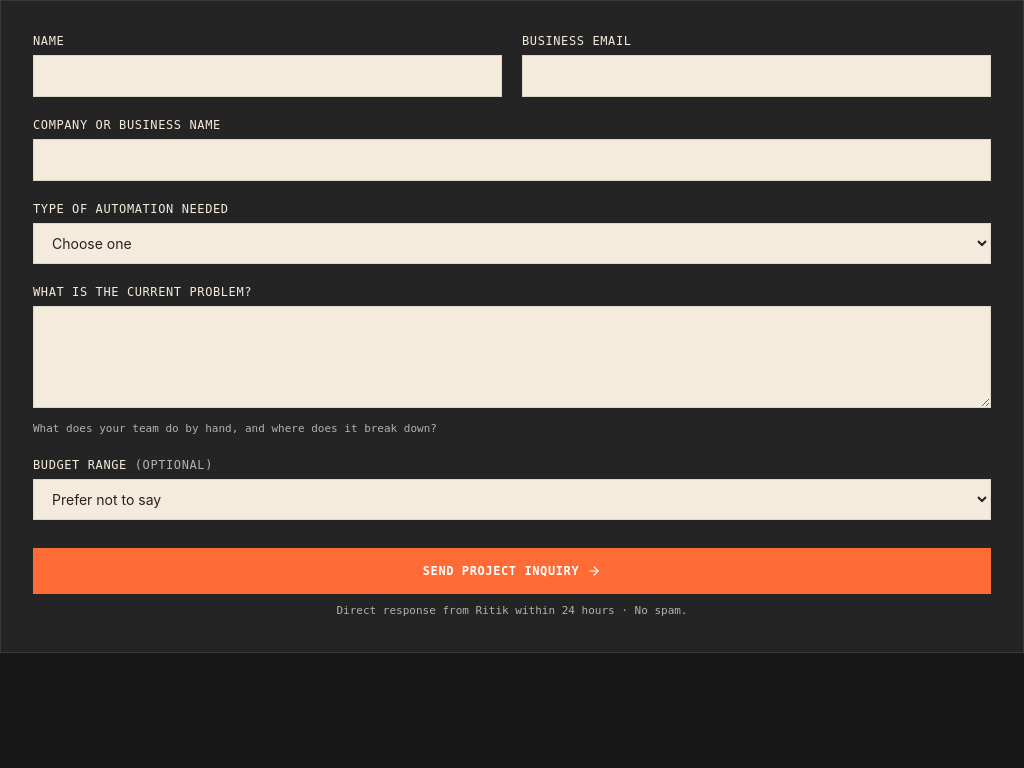
Test case: ContactForm › posts valid data and shows a confirmation on success
Type "Asha Rao" into the field labelled "Name" at [268, 76], box [33,55,502,97]
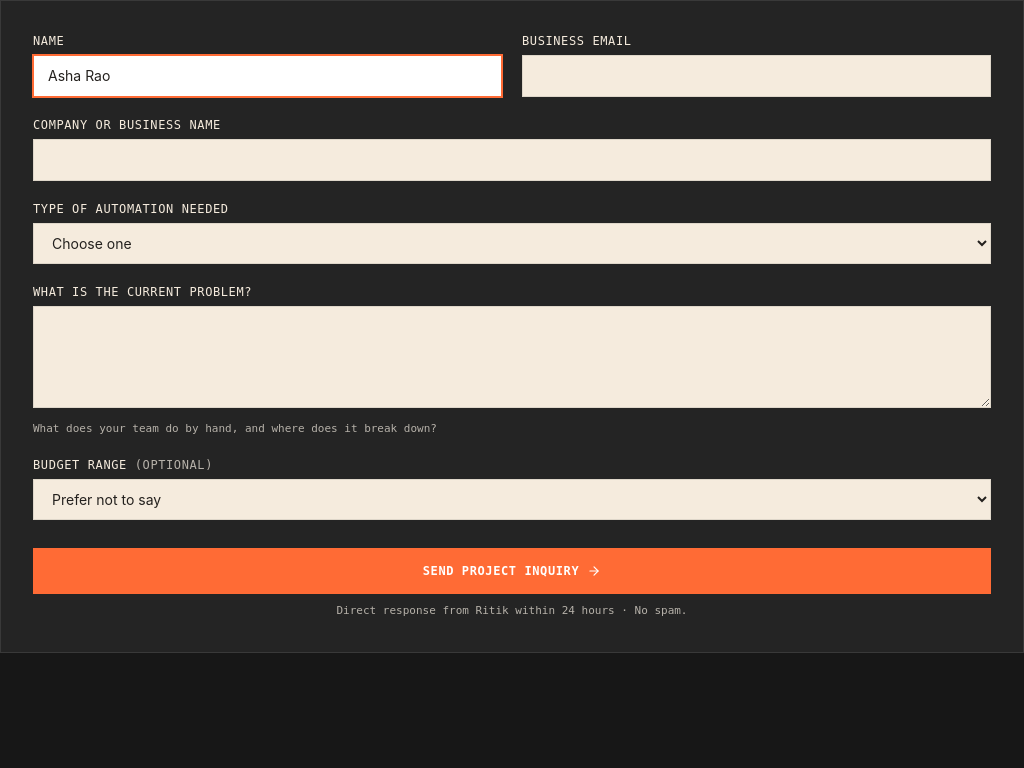
Type "asha@clinic.example" into the field labelled "Business email" at [756, 76], box [522,55,991,97]
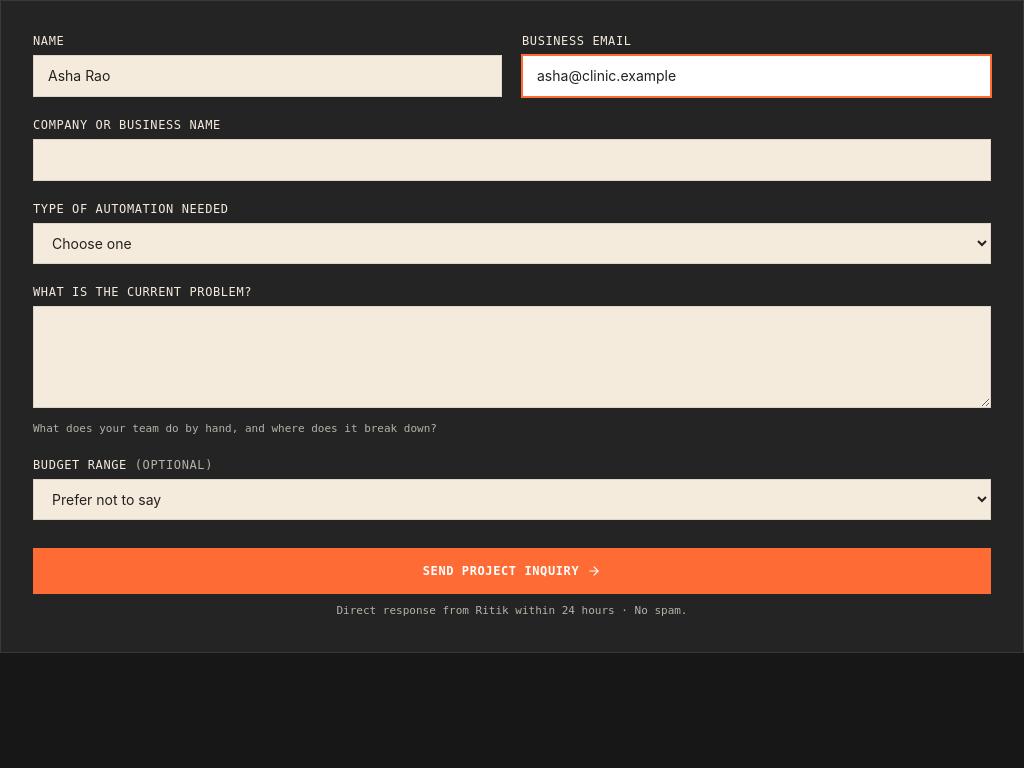
Type "Rao Dental" into the field labelled "Company or business name" at [512, 160], box [33,139,991,181]
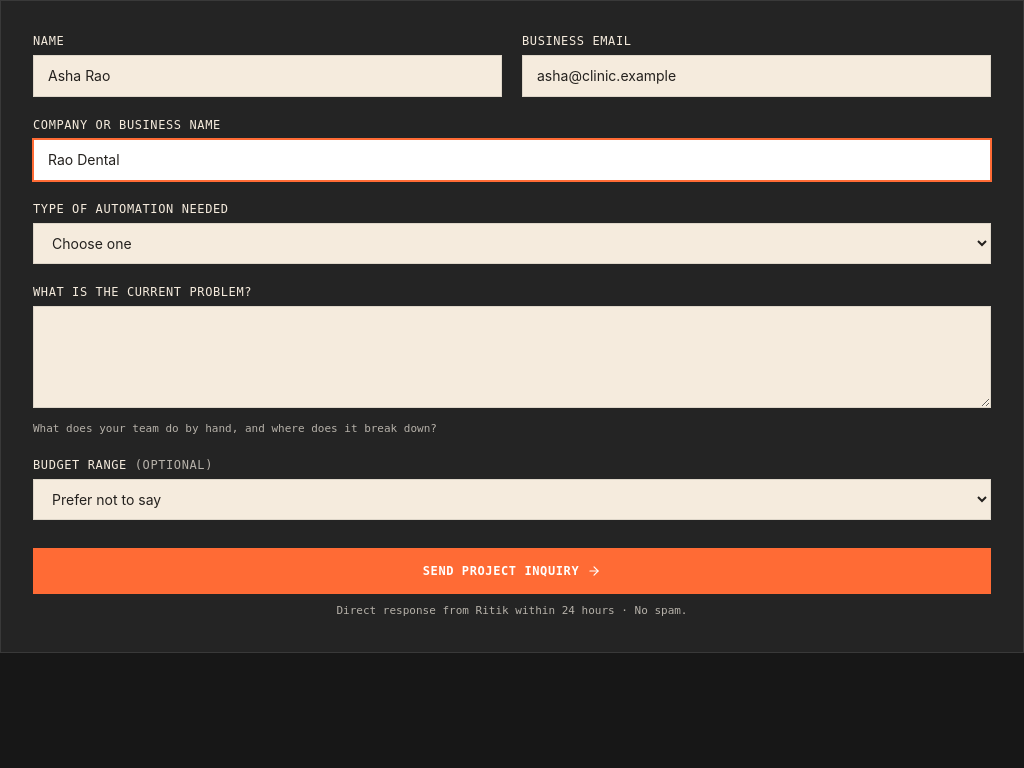
Select "WhatsApp AI receptionist" in the dropdown labelled "Type of automation needed" at [512, 244], box [33,223,991,264]
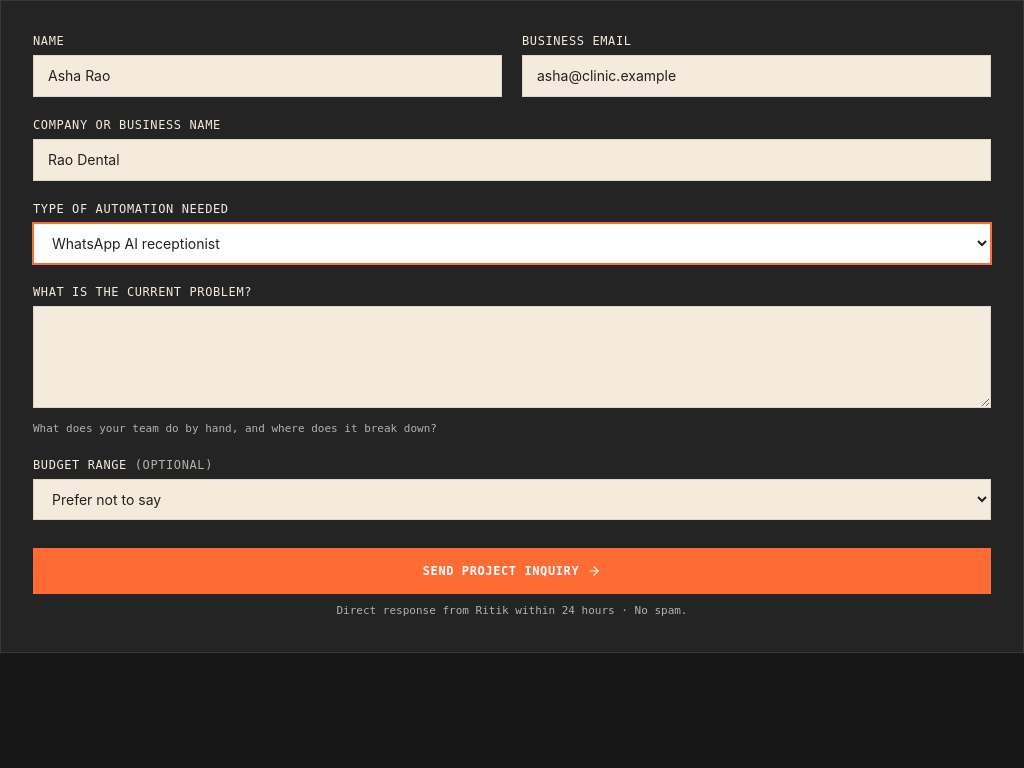
Type "We answer every WhatsApp enquiry by hand and miss many after hours." into the text box labelled "What is the current problem?" at [512, 357], box [33,306,991,408]
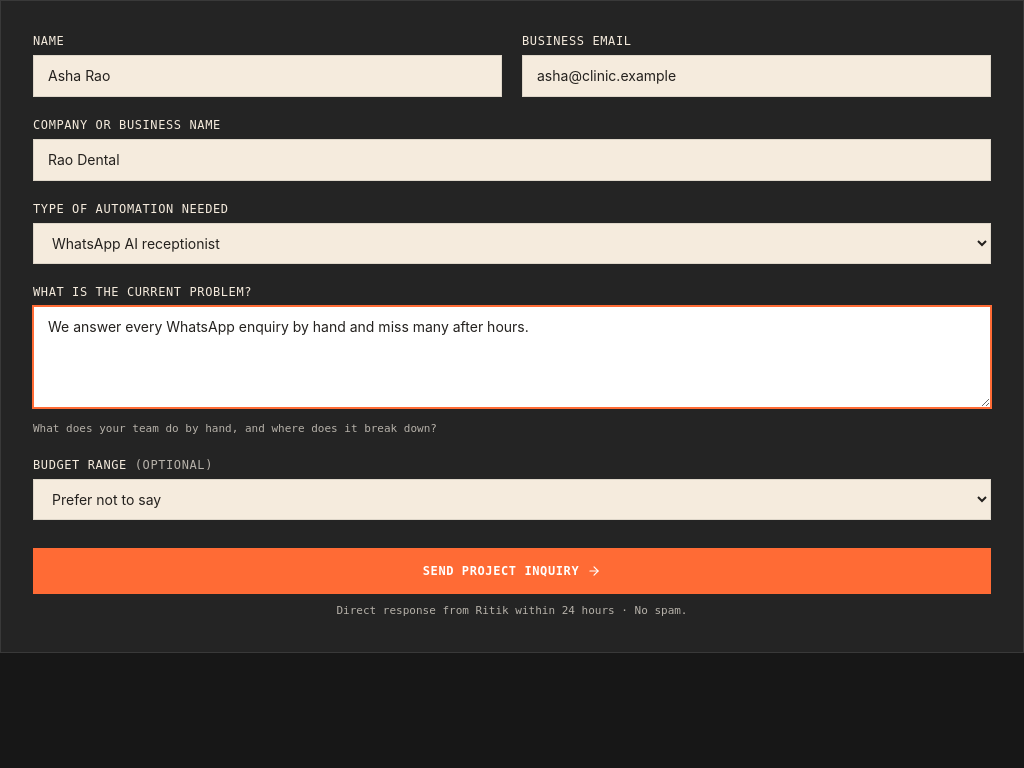
Click the button "Send project inquiry" at [512, 571], box [33,548,991,594]
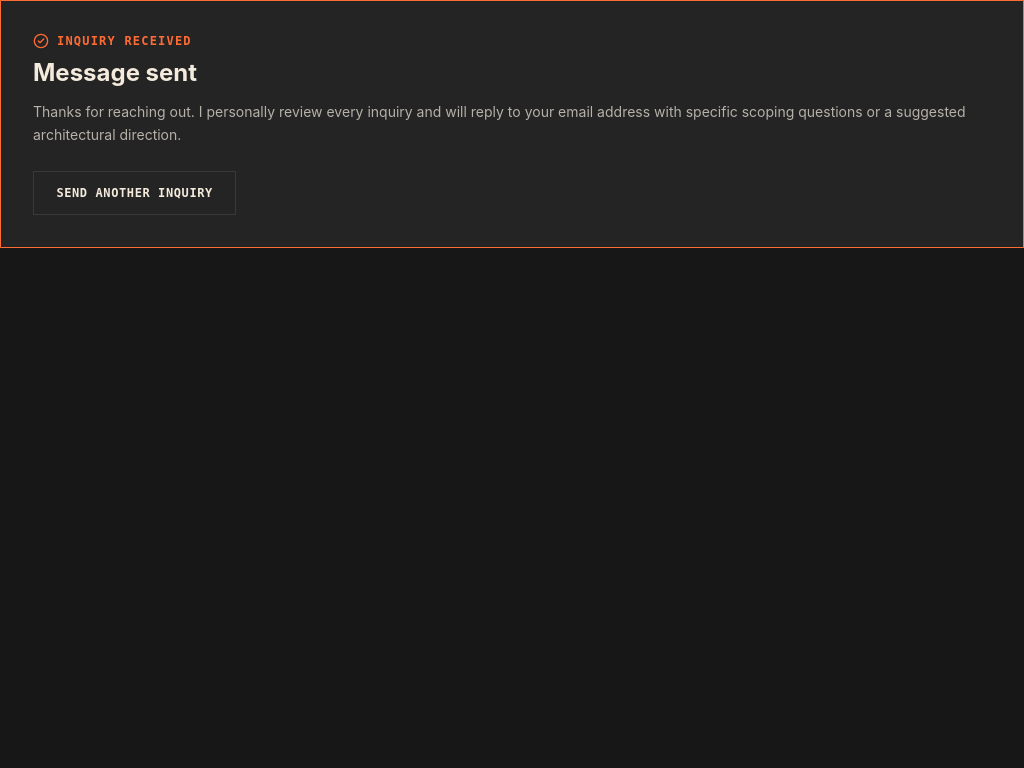
Result: the heading "Message sent" is shown at [33,58,197,87]
